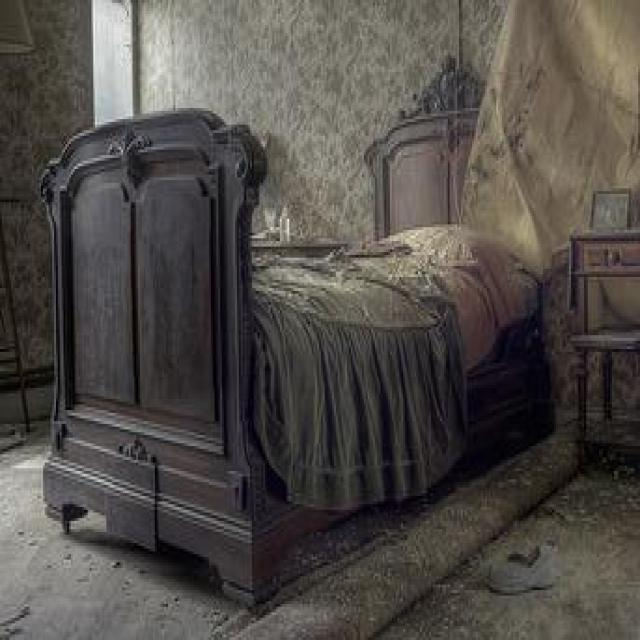bed: (39, 53, 555, 623)
